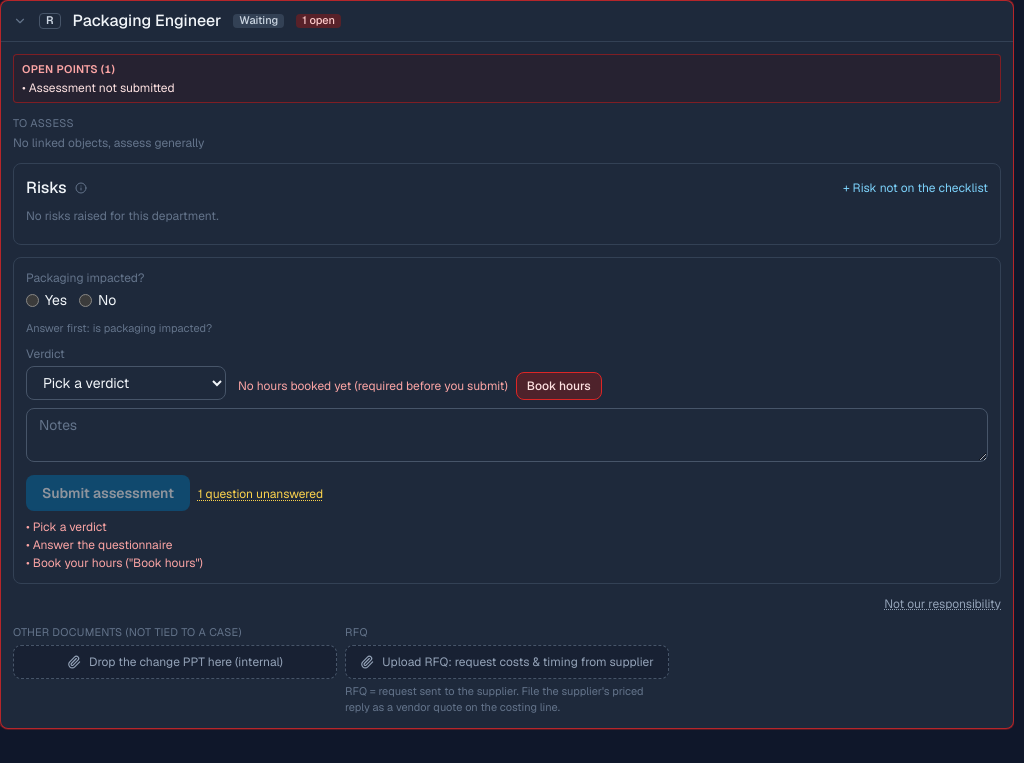
Test case: AssessmentBuckets department questionnaires › asks packaging first whether packaging is impacted at all
This screenshot has width=1024, height=763.
Check: the text "Packaging impacted?" is shown, box [26,270,145,286]
Click the radio button with test id "pkg-impacted-yes" at x=32, y=300, box [26,294,39,306]
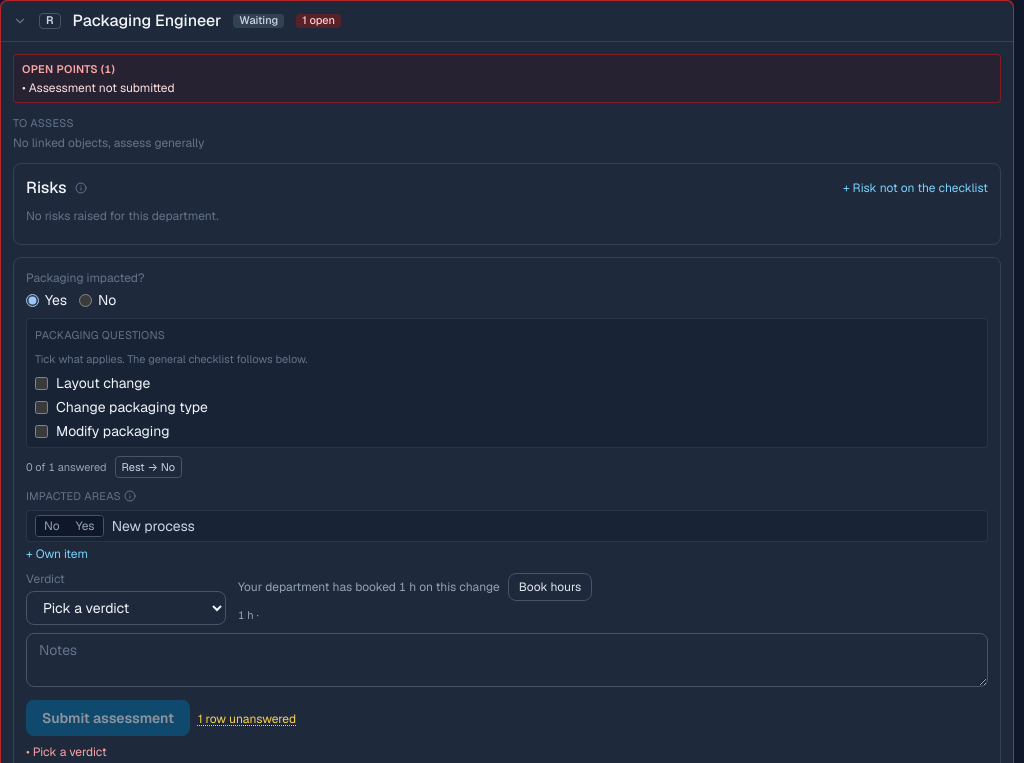
Check: the element with test id "pkg-detail" is shown, box [26,318,988,448]
Check: the checkbox with test id "pkg-layout_change" is shown, box [35,376,48,390]
